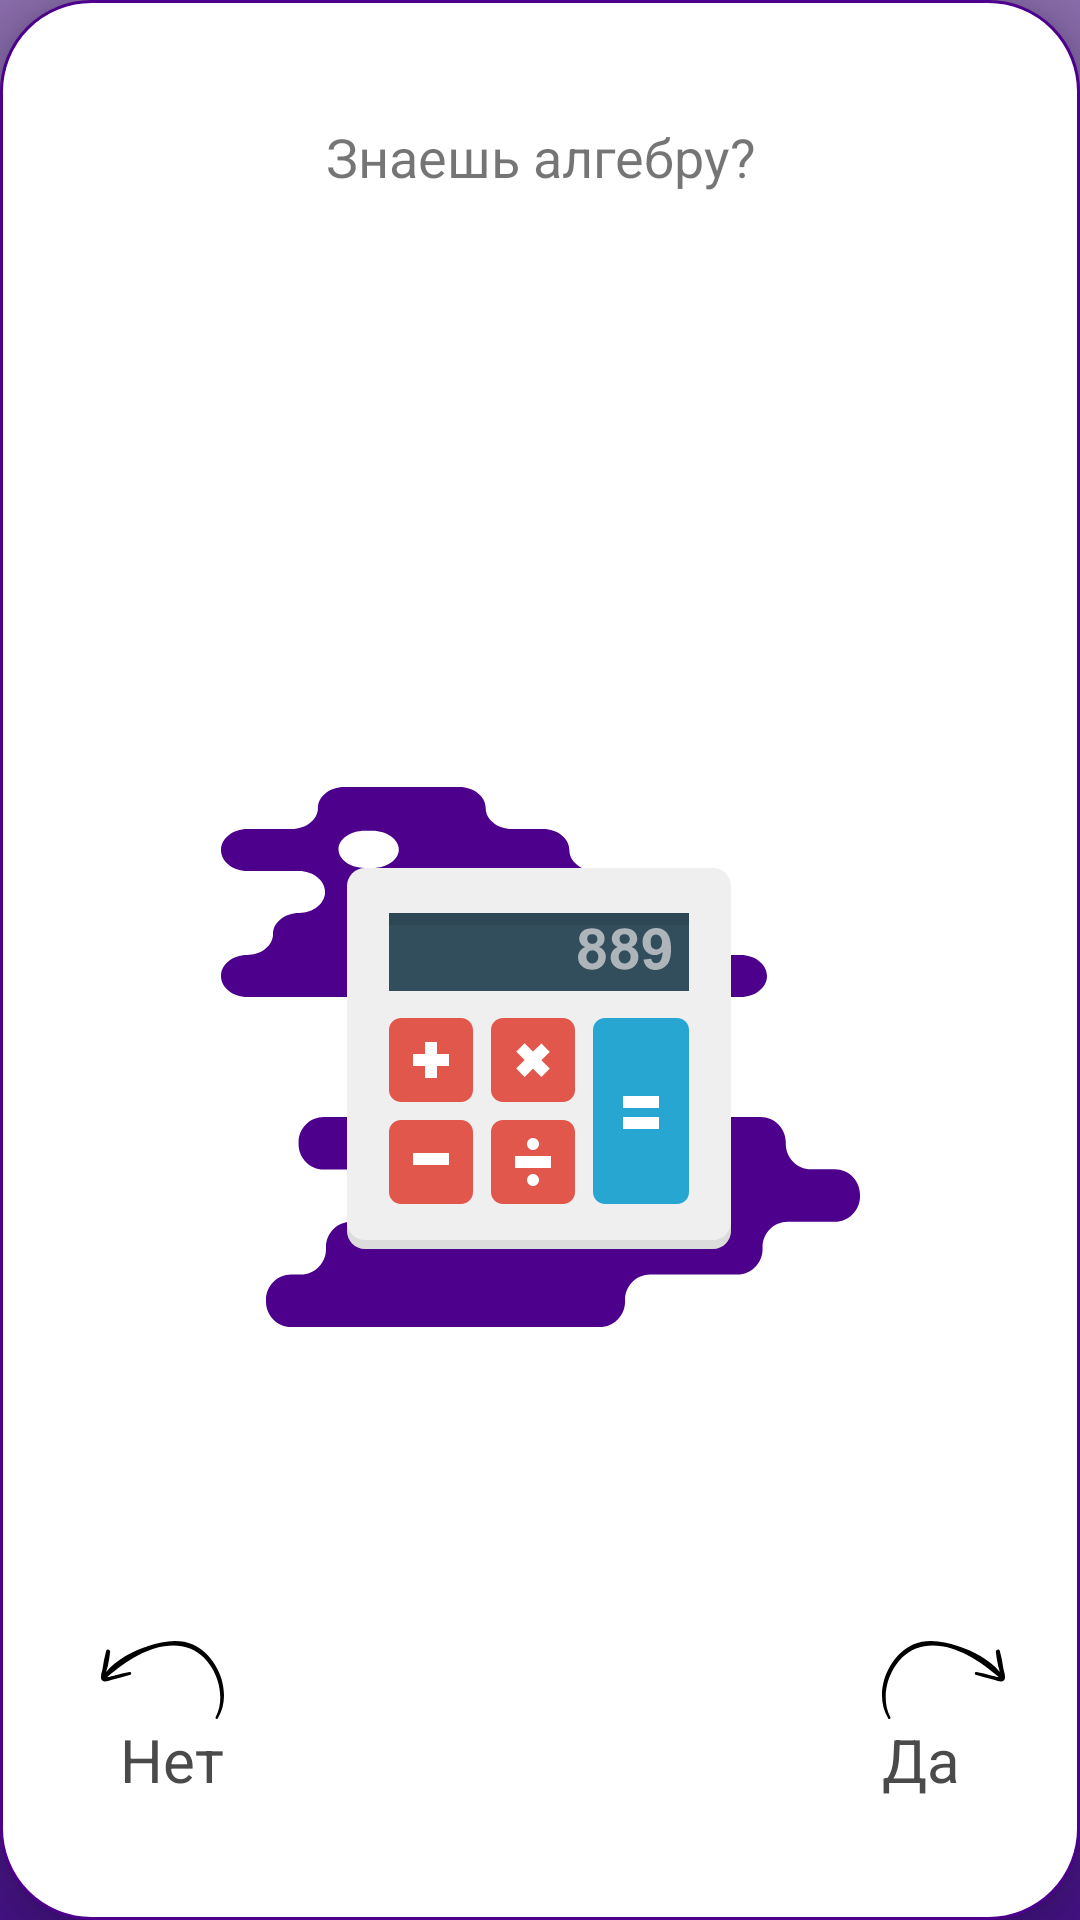

Named icons in this screenshot (1080px×1920px) and their centers, (x=x, y=y):
swipe none: (x=162, y=1680)
swipe yes: (x=943, y=1680)
